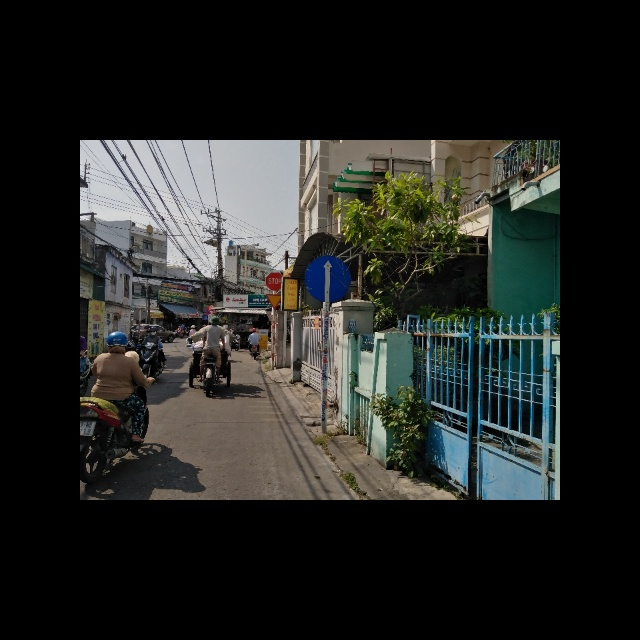Dừng lại: (266, 271, 282, 289)
Giao nhau với đường ưu tiên: (265, 294, 283, 310)
Đường một chiều: (305, 258, 352, 302)
